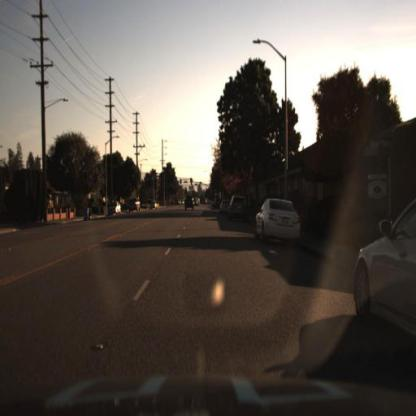car: (353, 195, 416, 344), (256, 195, 305, 244), (230, 197, 249, 223), (107, 200, 124, 221), (126, 196, 143, 217), (105, 199, 120, 217), (185, 197, 195, 213)
